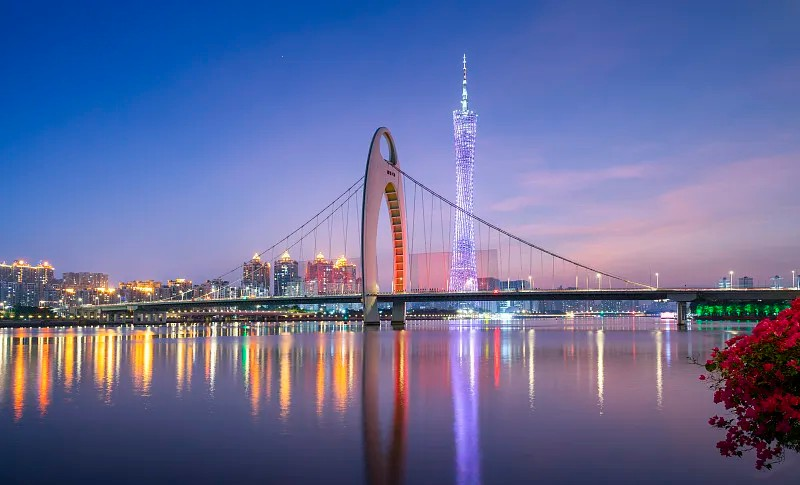Canton: (452, 51, 479, 294)
